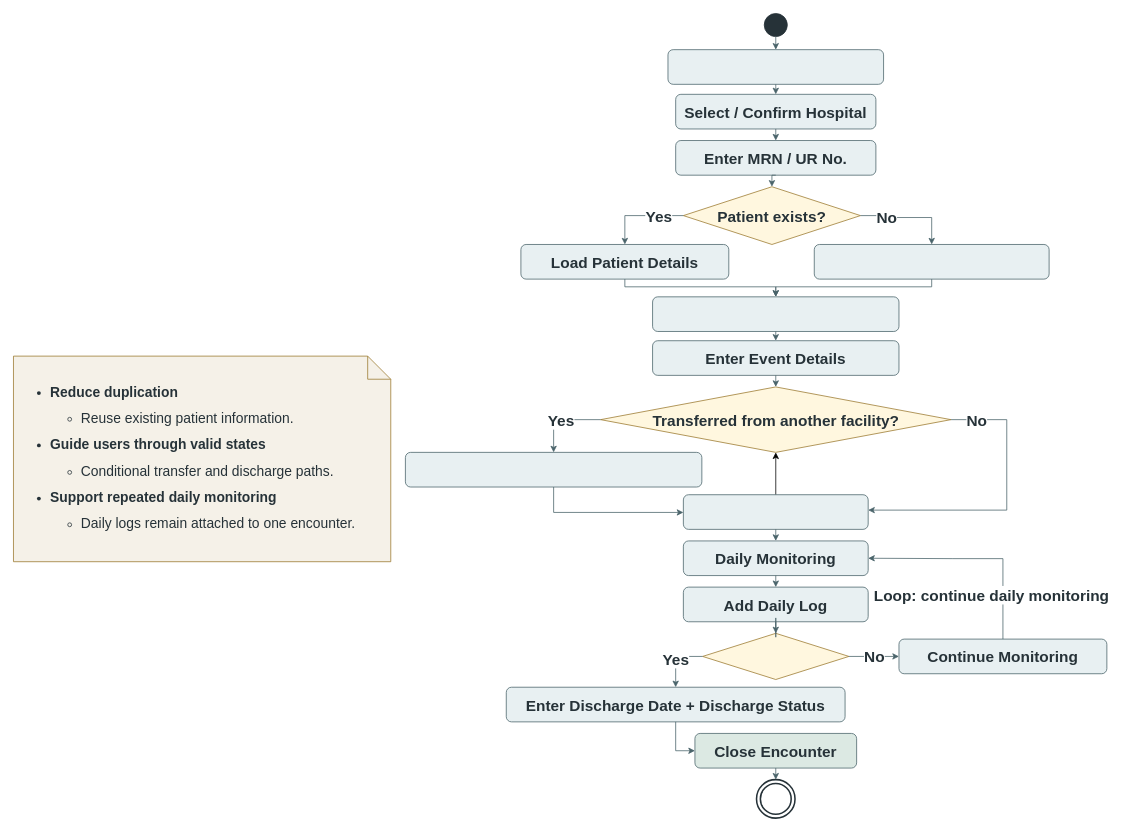
Image size: 1123x832. Some labels were removed from this diagram. Here are the shapes that lost their labels. From the top down, the centre of each, then its label:
At pixel 775 66: "Authenticated Hospital Staff".
At pixel 931 261: "Enter / Create Patient Details".
At pixel 775 313: "Create / Open Encounter".
At pixel 553 469: "Enter Initial Hospital Admission Date".
At pixel 775 511: "Save Encounter".
At pixel 775 656: "Discharged?".
